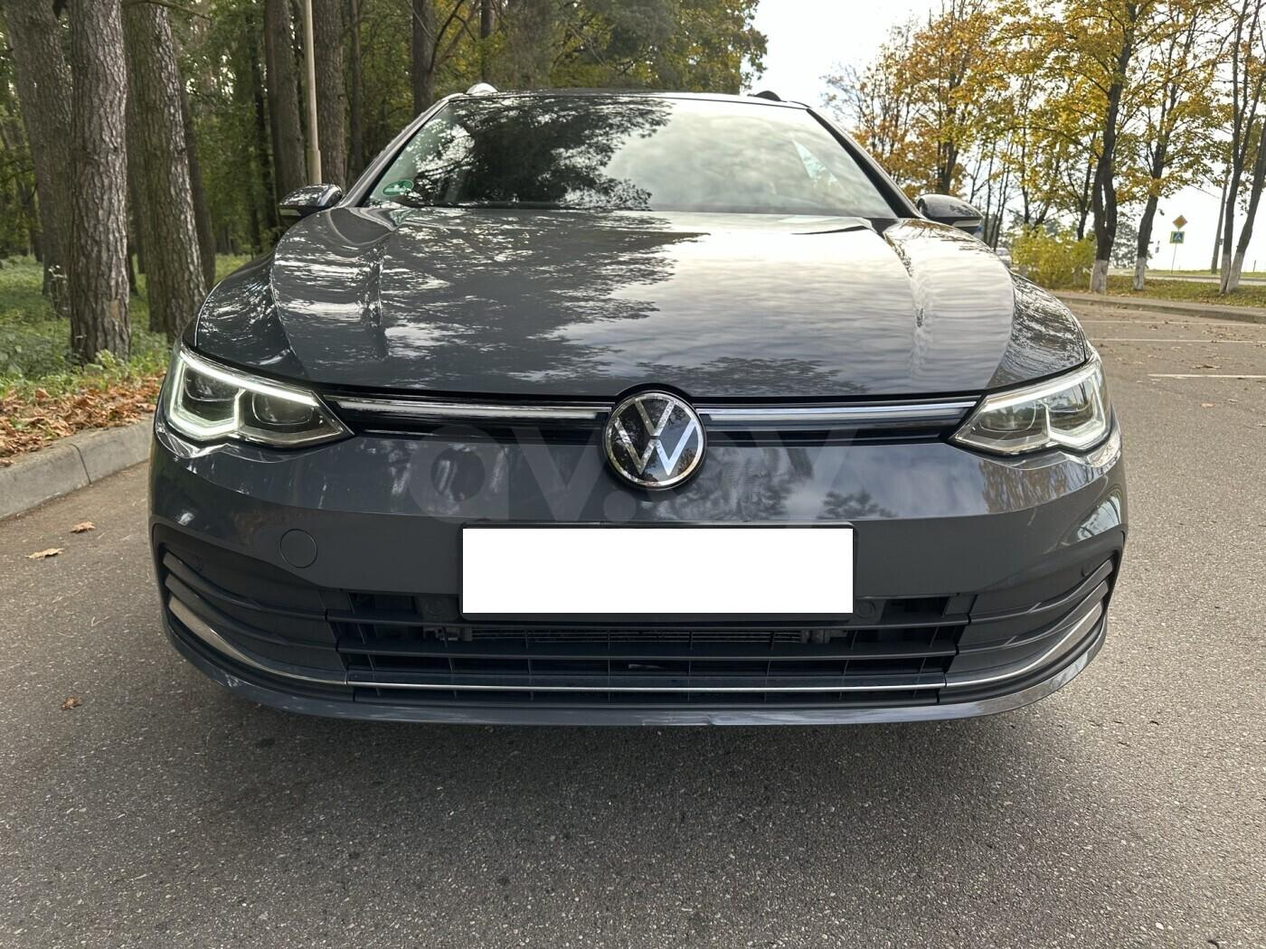Golf_2019: (142, 72, 1129, 736)
